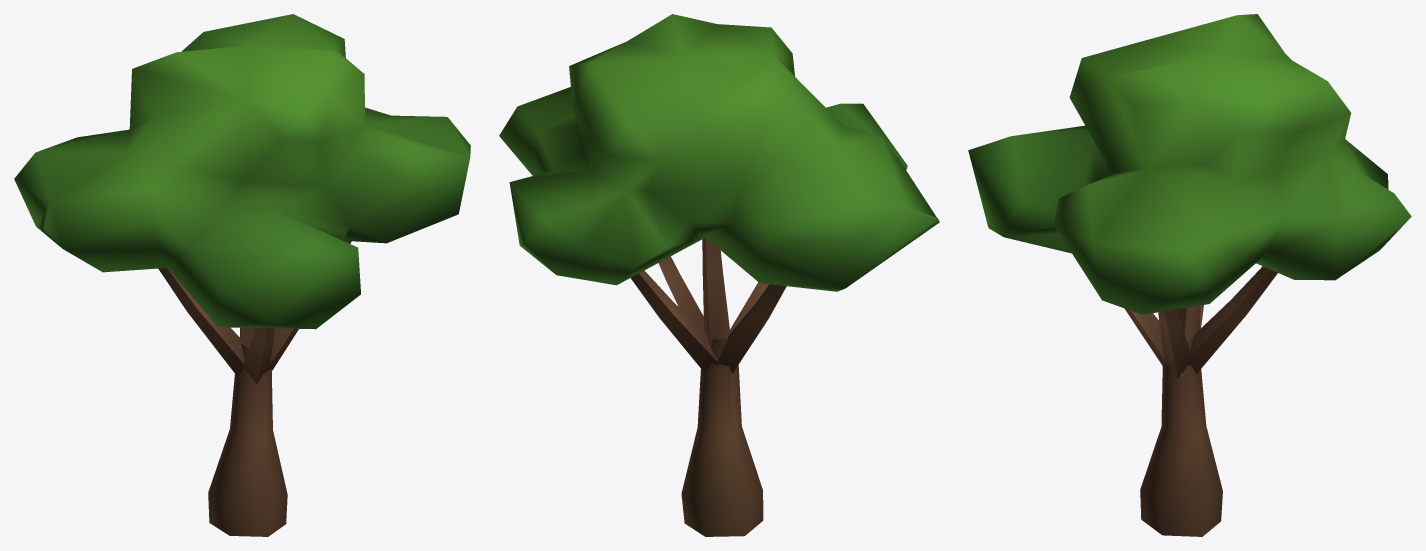
Rendered from tree-broadleaf-a-lod.glb.
3 views of the same model, side by side, from view 1: azimuth 30°, elevation 25°; view 2: azimuth 150°, elevation 25°; view 3: azimuth 270°, elevation 25° (orthographic). The views are drawn at different scales.
Parts seen in each view (by area): view 1: Broadleaf A LOD Leaves, Broadleaf A LOD Bark; view 2: Broadleaf A LOD Leaves, Broadleaf A LOD Bark; view 3: Broadleaf A LOD Leaves, Broadleaf A LOD Bark.
Part boxes in pixels (x1=…): Broadleaf A LOD Leaves: x1=14, y1=14, x2=470, y2=329; Broadleaf A LOD Bark: x1=158, y1=241, x2=351, y2=536; Broadleaf A LOD Leaves: x1=499, y1=14, x2=939, y2=291; Broadleaf A LOD Bark: x1=631, y1=237, x2=786, y2=536; Broadleaf A LOD Leaves: x1=968, y1=14, x2=1411, y2=314; Broadleaf A LOD Bark: x1=1124, y1=266, x2=1277, y2=536.
Bounding box in the file's own units: 7.79 × 8.37 × 6.91.
